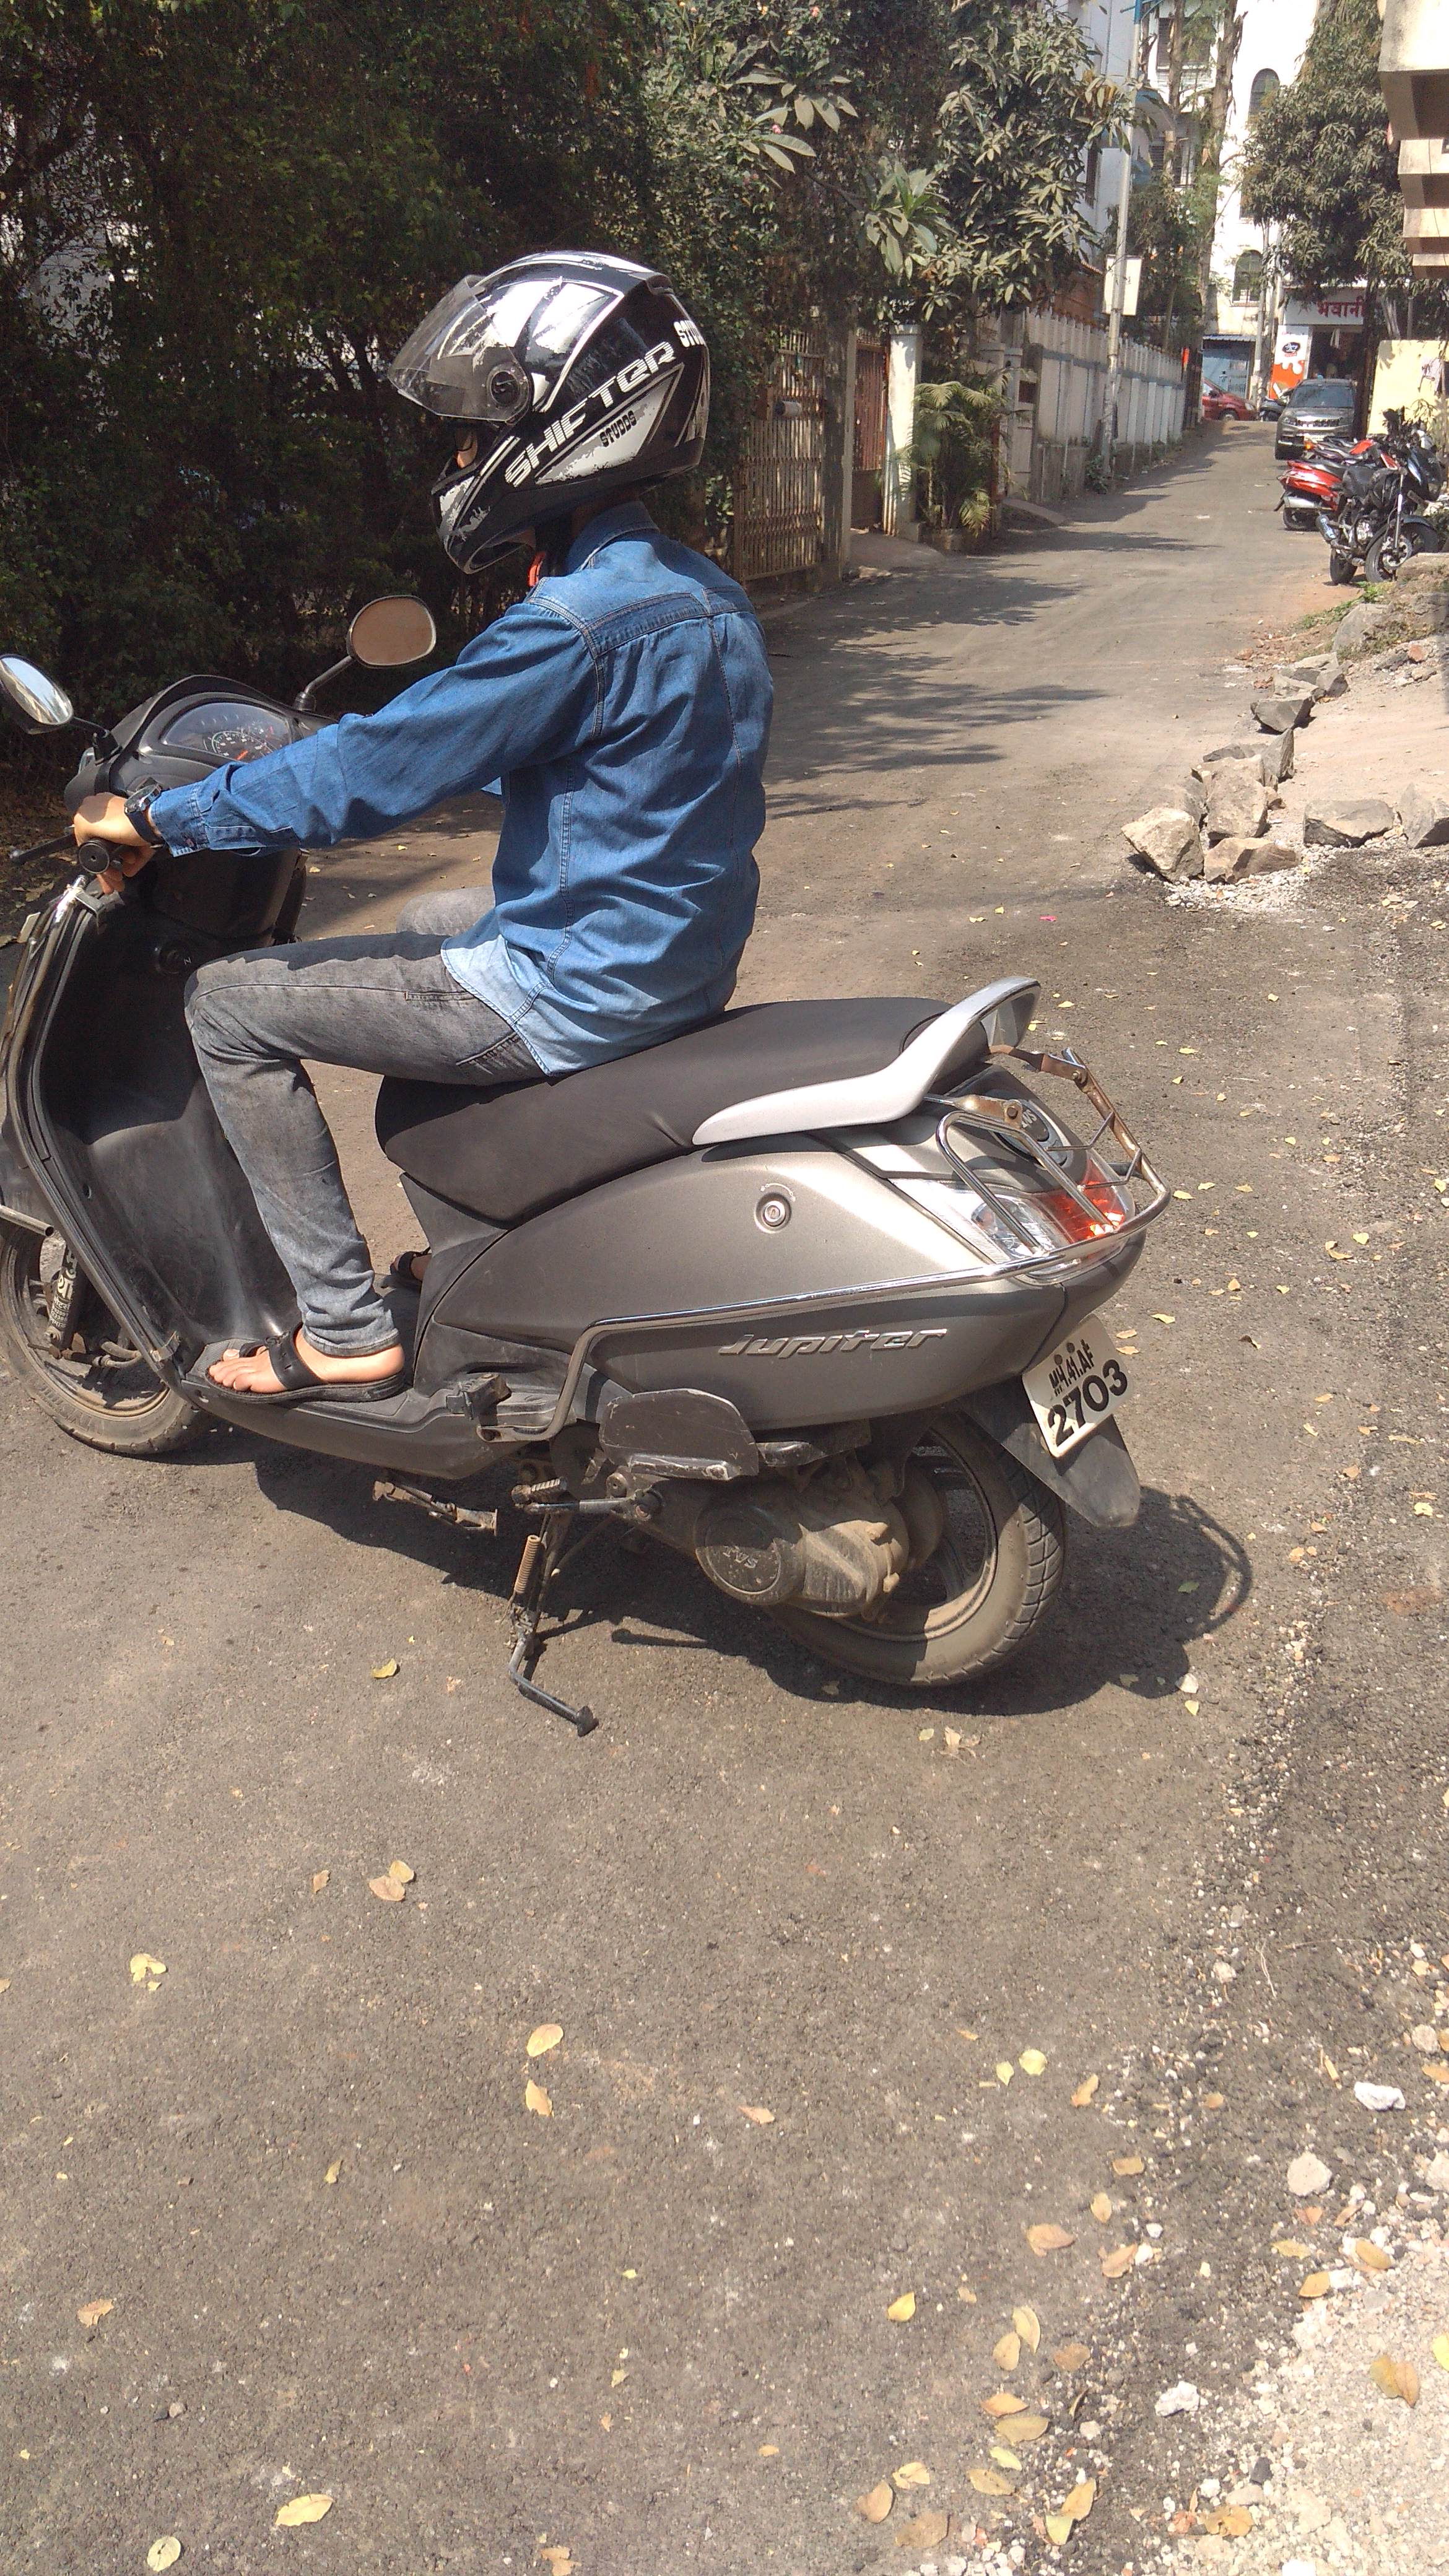helmet: (0, 228, 1171, 1771)
